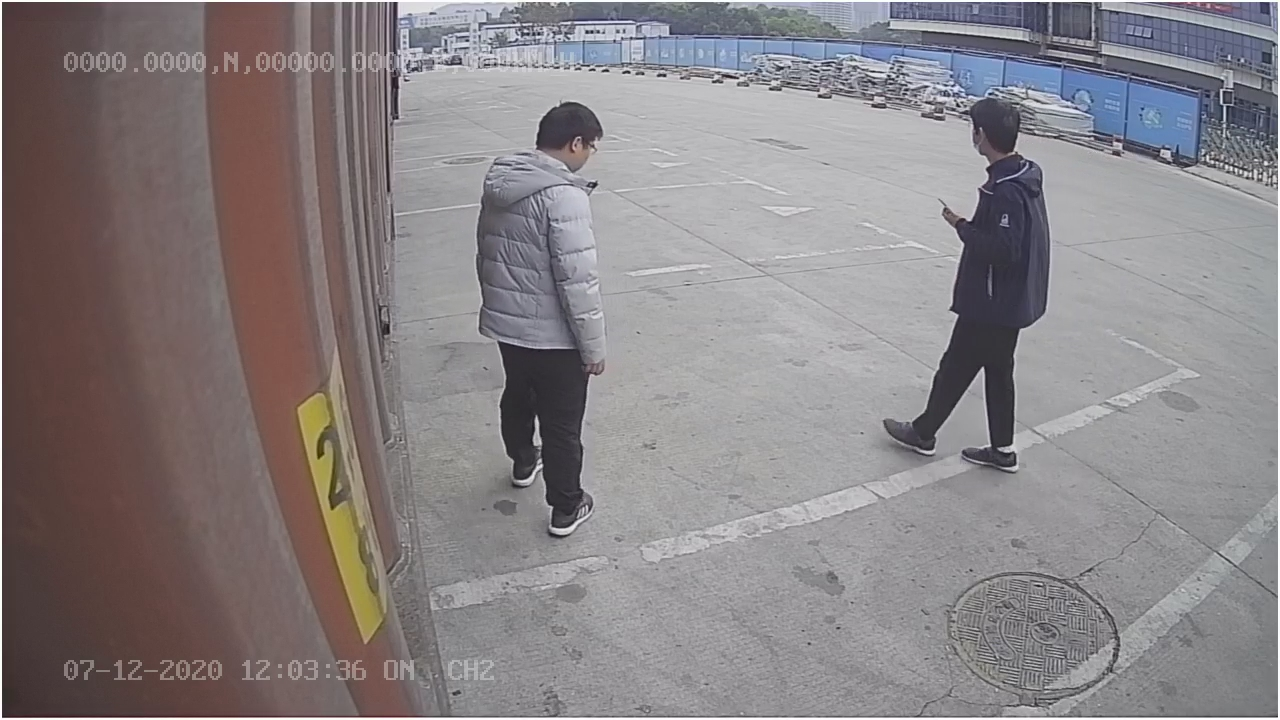person: (872, 86, 1058, 479), (466, 91, 619, 538)
